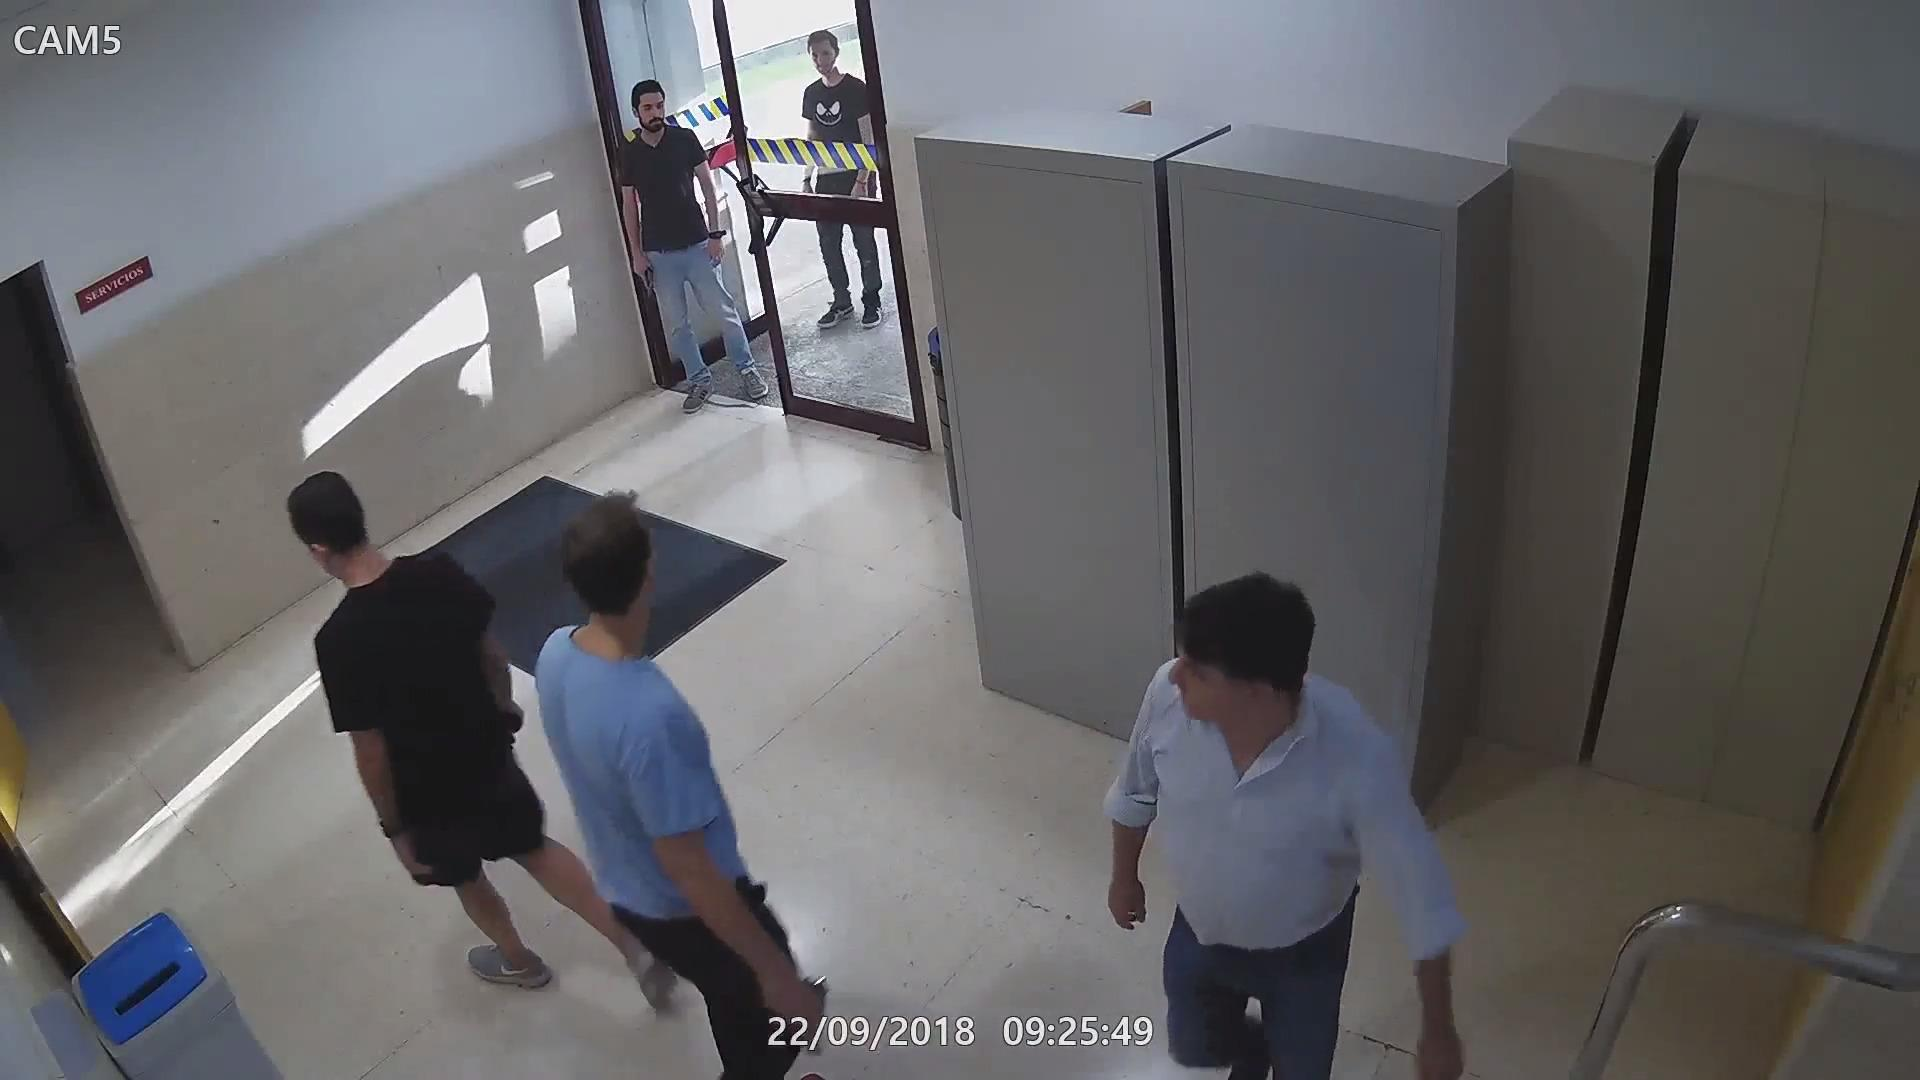Handgun: (786, 952, 856, 1064), (485, 678, 518, 770), (628, 255, 661, 314)
